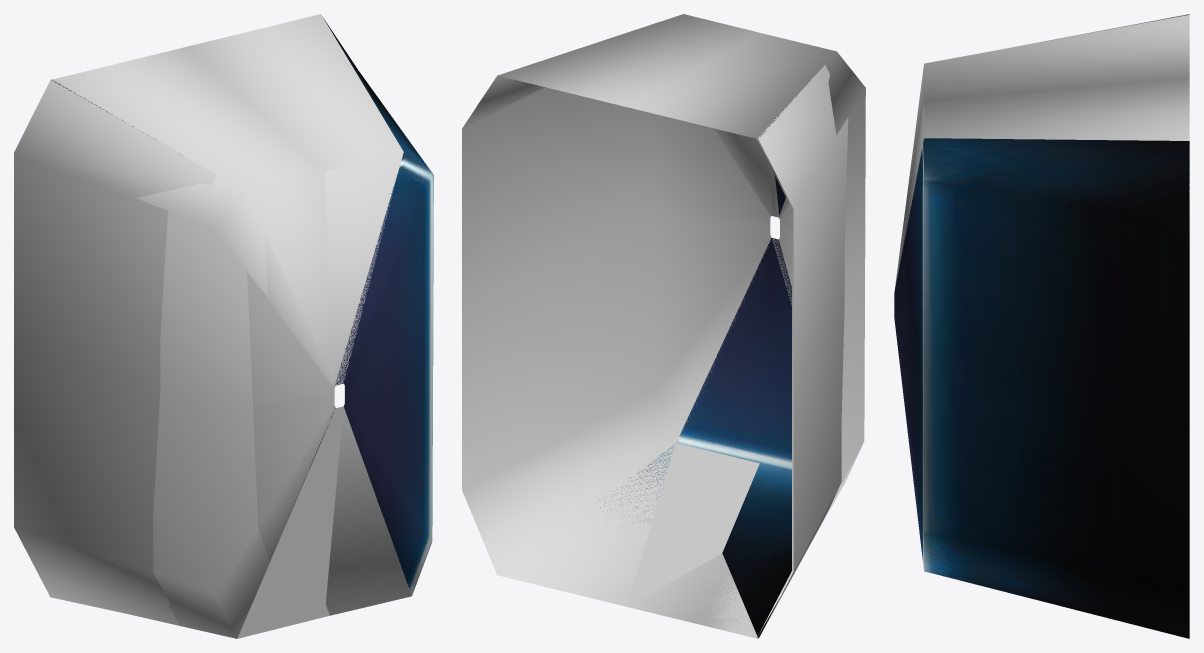
The model's file is FX_MESH_Shield_04.fbx.
3 views of the same model, side by side, from view 1: azimuth 30°, elevation 25°; view 2: azimuth 150°, elevation 25°; view 3: azimuth 270°, elevation 25° (orthographic). The views are drawn at different scales.
Parts seen in each view (by area): view 1: FX_MESH_Rect_05, FX_MESH_Rect_uv2, FX_MESH_Rect_uv; view 2: FX_MESH_Rect_05, FX_MESH_Rect_uv2, FX_MESH_Rect_uv; view 3: FX_MESH_Rect_uv, FX_MESH_Rect_uv2, FX_MESH_Rect_05.
Boxes of the visible parts, box(x1,y1,x2,y2) form: FX_MESH_Rect_05: box(14, 79, 411, 624); FX_MESH_Rect_uv2: box(52, 14, 408, 638); FX_MESH_Rect_uv: box(52, 18, 433, 595); FX_MESH_Rect_05: box(462, 14, 848, 638); FX_MESH_Rect_uv2: box(497, 14, 865, 638); FX_MESH_Rect_uv: box(615, 81, 809, 637); FX_MESH_Rect_uv: box(894, 14, 1189, 638); FX_MESH_Rect_uv2: box(895, 15, 1189, 285); FX_MESH_Rect_05: box(894, 14, 1189, 290).
Bounding box in the file's own units: 2.34 × 3.36 × 1.81.
Materials: 2 (1 with a texture image).
